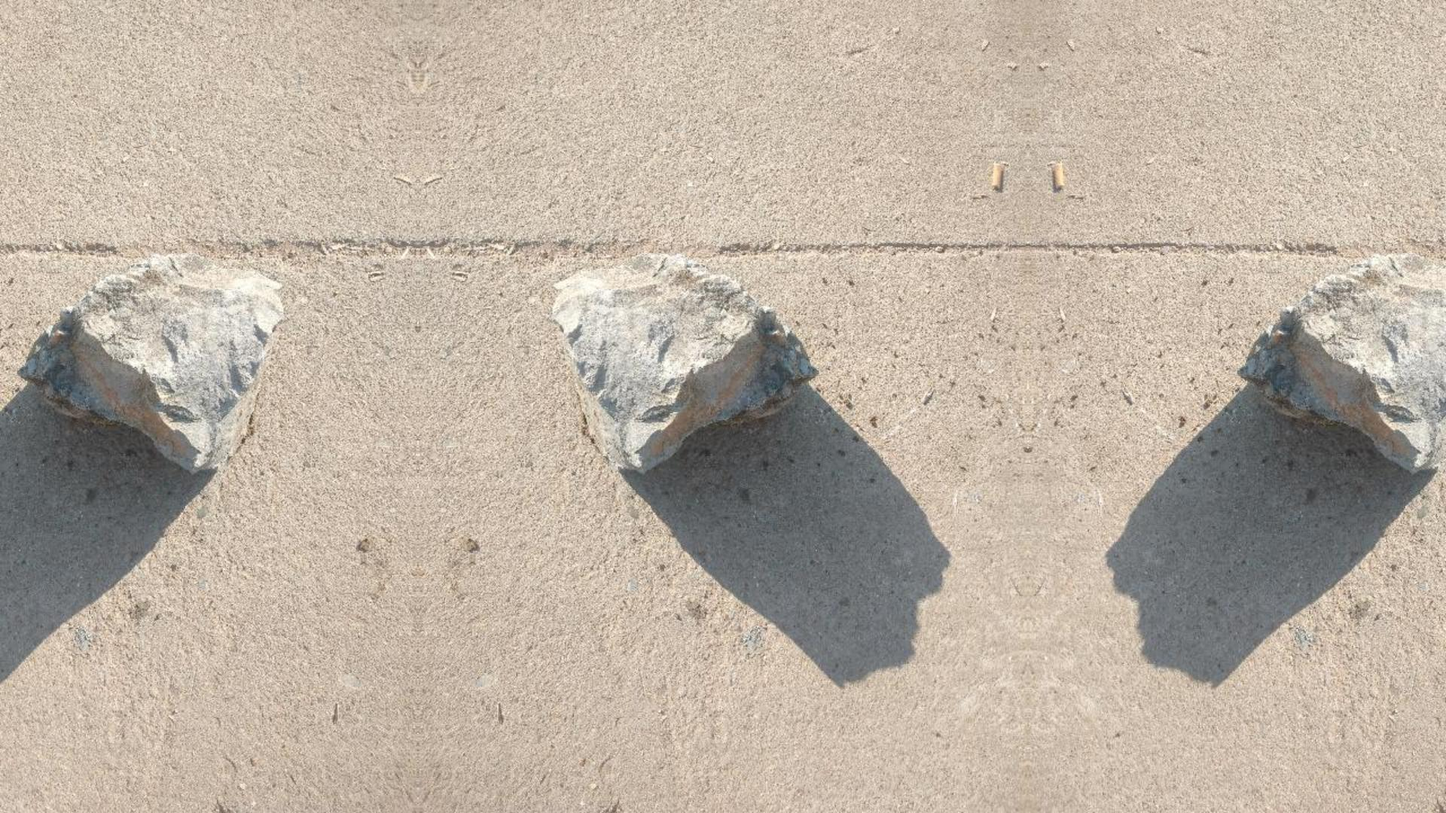rock: (552, 254, 816, 471), (19, 254, 282, 470), (1239, 254, 1445, 470)
